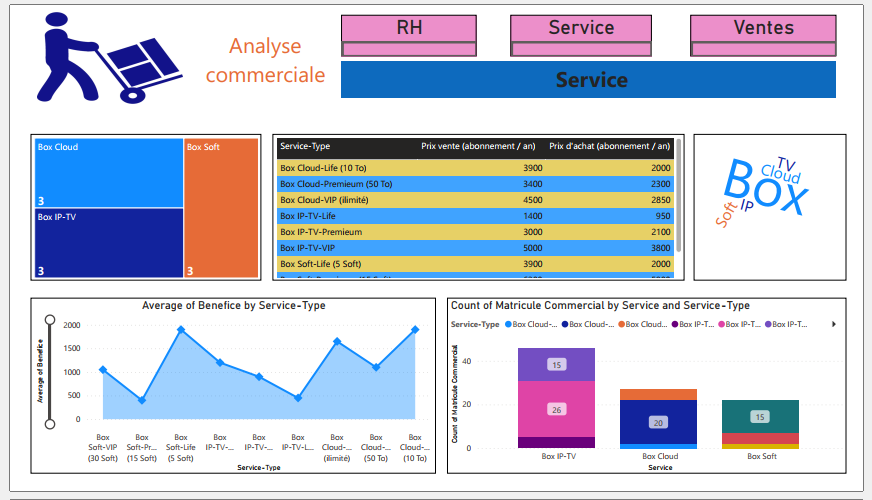

The dashboard page shown, as its layout file describes it:
{"tool":"powerbi","page":{"name":"Service","canvas":[1280,720],"ordinal":1},"visuals":[{"type":"treemap","fields":{"Group":["Services.Service"],"Values":["CountNonNull(Services.Service-Type)"]},"box":[31.1,189.2,345.9,220.2],"z":0},{"type":"tableEx","fields":{"Values":["Services.Service-Type","Services.Prix  vente (abonnement / an)","Services.Prix d'achat (abonnement / an)"]},"box":[393.9,189.2,618.4,220.2],"z":1000},{"type":"stackedAreaChart","fields":{"Category":["Services.Service-Type"],"Y":["Avg(Services.Benefice)"]},"box":[31.1,434.8,608.5,264],"z":2000},{"type":"WordCloud1447959067750","fields":{"Category":["Services.Service"]},"box":[1026.4,189.2,228.7,220.2],"z":3000},{"type":"lineStackedColumnComboChart","fields":{"Category":["Services.Service"],"Series":["Services.Service-Type"],"Y":["CountNonNull(ventes.Matricule Commercial)"]},"box":[656.5,434.8,598.6,264],"z":4000},{"type":"textbox","box":[289.4,28.2,207.5,100.2],"z":5000},{"type":"textbox","box":[497.2,79,742.5,55.4],"z":6000},{"type":"image","box":[10,0,279,150],"z":10000},{"type":"actionButton","title":"RH","box":[496.9,9.9,203.3,62.1],"z":10001},{"type":"actionButton","title":"Service","box":[751.1,9.9,211.8,62.1],"z":10002},{"type":"actionButton","title":"Ventes","box":[1020.7,9.9,218.8,62.1],"z":10003}]}

Visuals, with their boxes in screenshot pixels (x1, y1, x2, y2), scaled from the page's 1280x720 canvas onto the 872x500 screenshot:
treemap - Services.Service x CountNonNull(Services.Service-Type): {"x1": 21, "y1": 131, "x2": 257, "y2": 284}
tableEx - Services.Service-Type x Services.Prix  vente (abonnement / an): {"x1": 268, "y1": 131, "x2": 690, "y2": 284}
stackedAreaChart - Services.Service-Type x Avg(Services.Benefice): {"x1": 21, "y1": 302, "x2": 436, "y2": 485}
WordCloud1447959067750 - Services.Service: {"x1": 699, "y1": 131, "x2": 855, "y2": 284}
lineStackedColumnComboChart - Services.Service x Services.Service-Type: {"x1": 447, "y1": 302, "x2": 855, "y2": 485}
textbox: {"x1": 197, "y1": 20, "x2": 339, "y2": 89}
textbox: {"x1": 339, "y1": 55, "x2": 845, "y2": 93}
image: {"x1": 7, "y1": 0, "x2": 197, "y2": 104}
"RH" actionButton: {"x1": 339, "y1": 7, "x2": 477, "y2": 50}
"Service" actionButton: {"x1": 512, "y1": 7, "x2": 656, "y2": 50}
"Ventes" actionButton: {"x1": 695, "y1": 7, "x2": 844, "y2": 50}
